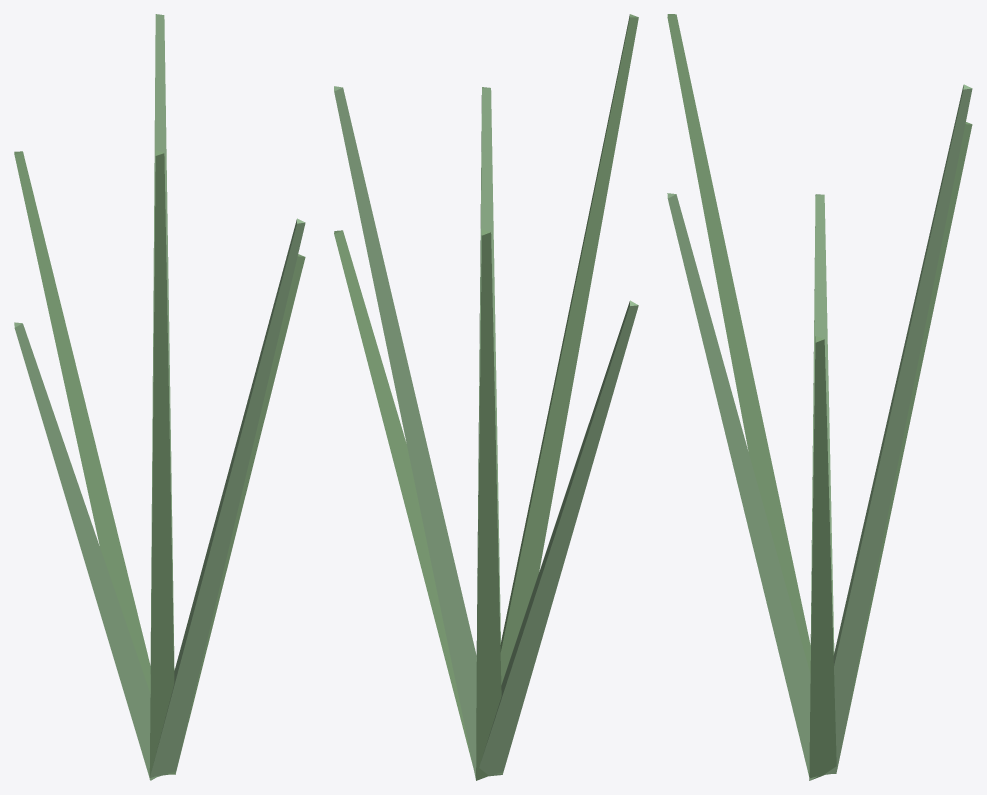
The model's file is grass_tuft_v01.glb.
3 renders of one model, left to right at view 1: azimuth 30°, elevation 25°; view 2: azimuth 150°, elevation 25°; view 3: azimuth 270°, elevation 25°, orthographic. The views are drawn at different scales.
Visible parts, largest first — view 1: lod0; view 2: lod0; view 3: lod0.
Boxes of the visible parts, x1,y1,x2,y2 form: lod0: [14, 14, 305, 780]; lod0: [334, 14, 638, 780]; lod0: [667, 14, 972, 780].
Size of what is drawn, in the model's own units: 0.2883 by 0.6547 by 0.25.
